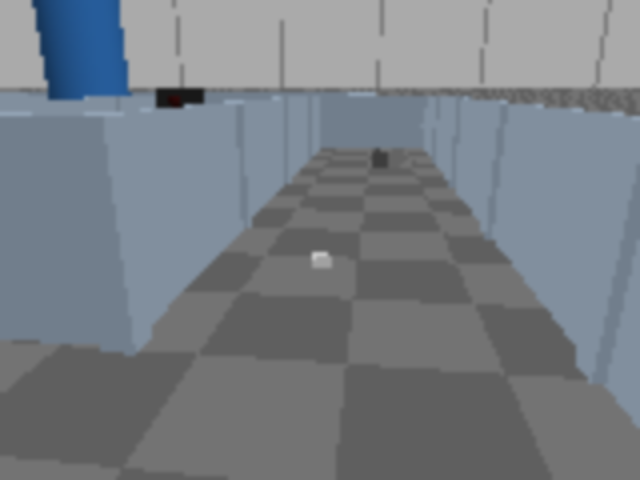puck: (311, 252, 331, 270)
